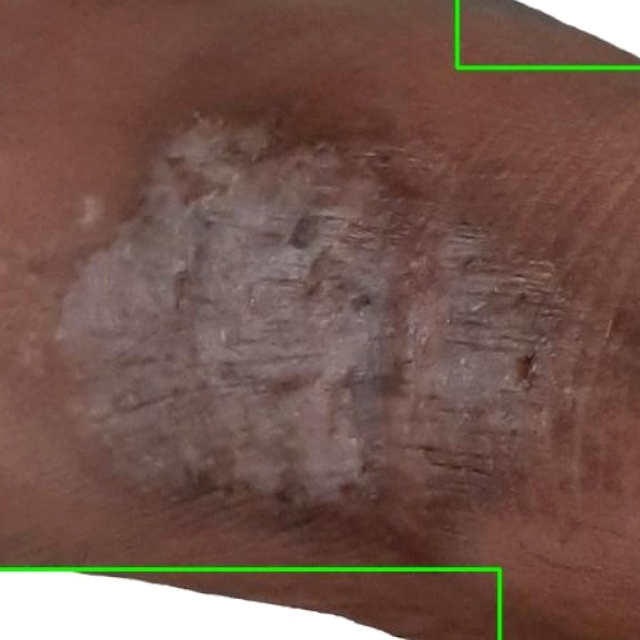Eczema: (0, 569, 500, 639)
